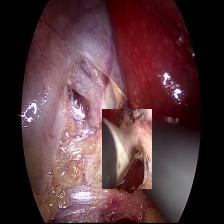Hook: (102, 109, 152, 189)
